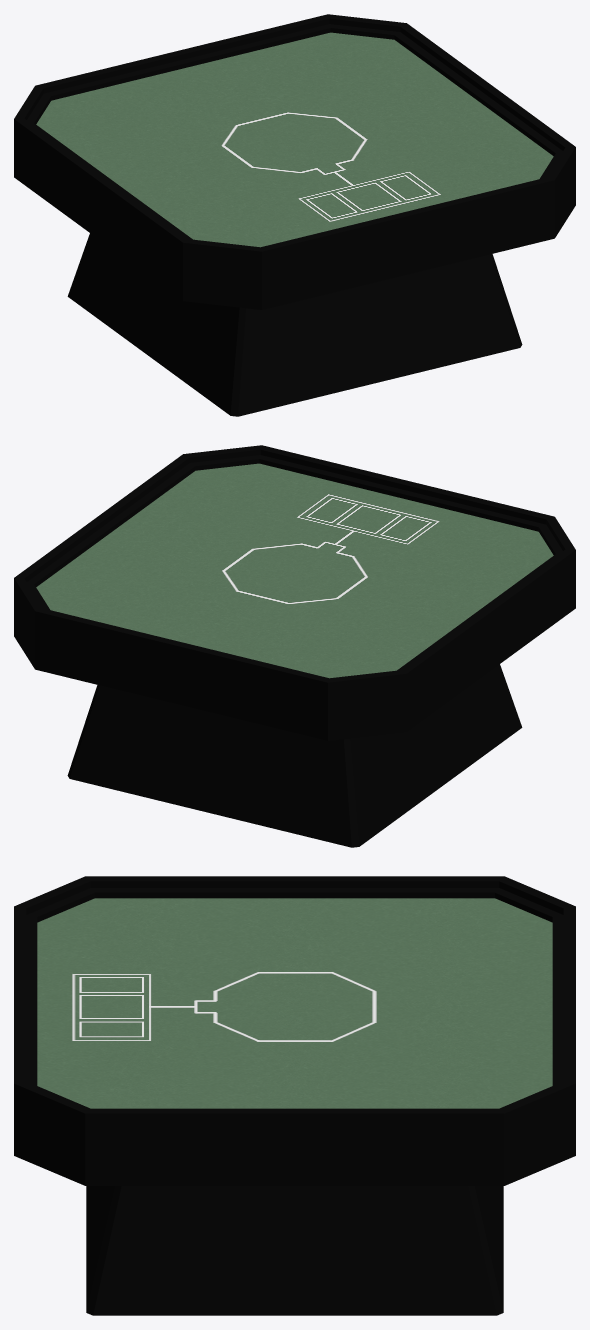
Rendered from table.glb.
3 renders of one model, top to bottom at view 1: azimuth 30°, elevation 25°; view 2: azimuth 150°, elevation 25°; view 3: azimuth 270°, elevation 25°, orthographic. The views are drawn at different scales.
Parts seen in each view (by area): view 1: TableBase, TableTop; view 2: TableBase, TableTop; view 3: TableBase, TableTop.
Part boxes in pixels (bbox=[...]): TableBase: bbox=[14, 14, 575, 416]; TableTop: bbox=[36, 32, 553, 247]; TableBase: bbox=[14, 445, 575, 847]; TableTop: bbox=[36, 463, 553, 678]; TableBase: bbox=[14, 876, 575, 1315]; TableTop: bbox=[37, 898, 552, 1108].
Bounding box in the file's own units: 1.29 × 0.5905 × 1.29.
Materials: 2 (2 with a texture image).
